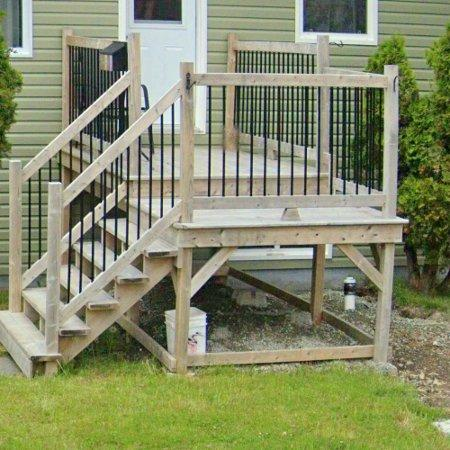stairs: (0, 75, 182, 377)
